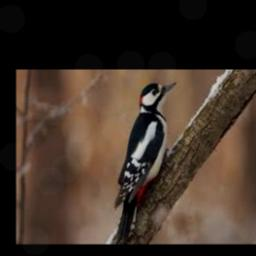Woodpecker: (114, 81, 176, 244)
